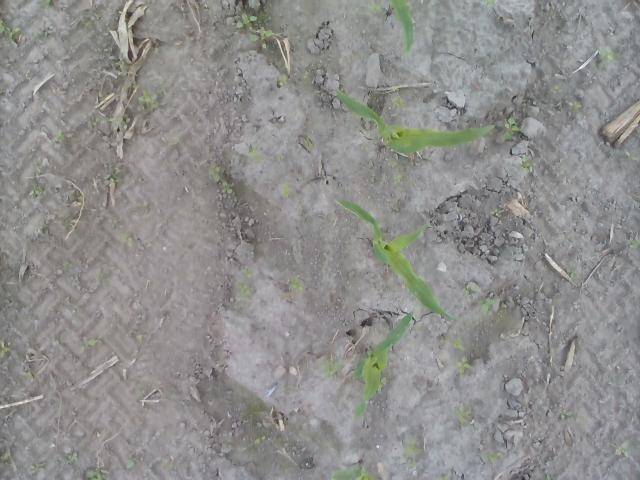Maize: (334, 194, 468, 322), (334, 89, 498, 156), (352, 312, 414, 420), (391, 0, 415, 56), (332, 463, 379, 480)
Weeds: (502, 112, 522, 141), (238, 270, 255, 304), (0, 17, 20, 42), (136, 88, 160, 108), (235, 10, 258, 30), (318, 359, 342, 377), (405, 436, 417, 470), (454, 403, 471, 426), (612, 440, 634, 457), (251, 26, 273, 42), (453, 355, 472, 373), (208, 163, 225, 183), (479, 296, 496, 316), (481, 449, 504, 463), (520, 156, 536, 176), (80, 335, 97, 352), (598, 46, 614, 64), (248, 143, 264, 161), (0, 450, 16, 466), (566, 98, 584, 112), (0, 338, 11, 360), (290, 278, 304, 295), (453, 334, 466, 352), (368, 2, 386, 15), (558, 408, 576, 421), (87, 469, 108, 480), (32, 186, 48, 200), (392, 96, 406, 109), (624, 238, 640, 249), (94, 116, 113, 125), (54, 130, 66, 144), (222, 180, 234, 194), (120, 233, 132, 247), (120, 114, 130, 130), (127, 454, 137, 470), (33, 30, 49, 40), (66, 450, 78, 463), (624, 152, 640, 161), (82, 19, 95, 30), (549, 84, 563, 94), (280, 182, 288, 199), (463, 286, 476, 296), (128, 80, 140, 90), (278, 74, 288, 86), (254, 432, 264, 444), (384, 157, 396, 167), (304, 136, 312, 150), (71, 190, 82, 200), (378, 378, 386, 391), (102, 174, 112, 184), (496, 208, 506, 217), (23, 370, 32, 380), (484, 0, 494, 8), (359, 144, 369, 152), (276, 153, 284, 161), (568, 272, 576, 280), (394, 176, 401, 185), (439, 473, 448, 480), (111, 59, 121, 64), (46, 0, 52, 7), (345, 208, 351, 214)
